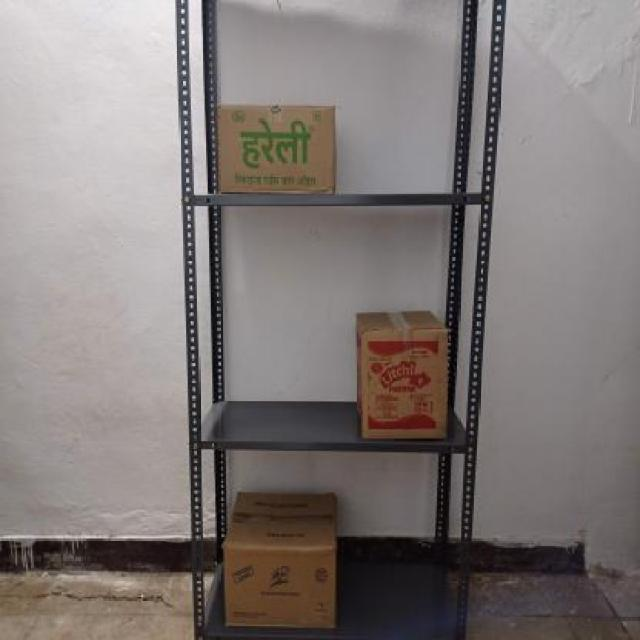box: (215, 101, 336, 197), (219, 544, 338, 630), (362, 330, 447, 442)
